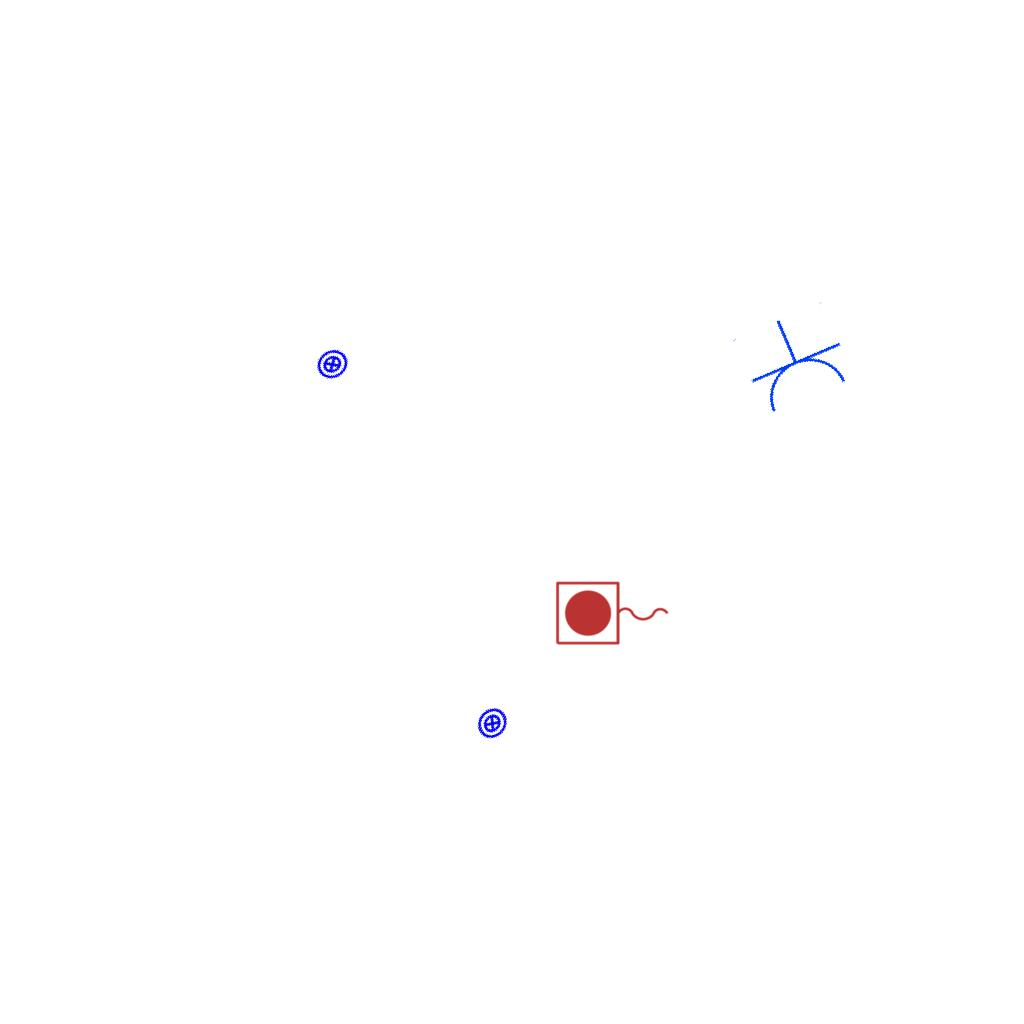Schukosteckdose_einfach: (730, 300, 858, 421)
Taster_beleuchtet: (309, 341, 356, 388), (469, 700, 516, 747)
Zugtaster: (552, 578, 674, 650)
